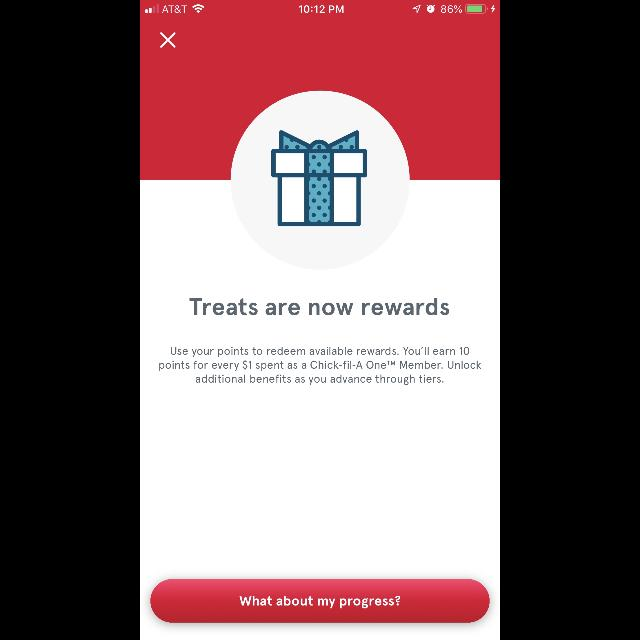icon: (272, 130, 368, 226), (160, 32, 178, 49)
text: (159, 347, 481, 385), (189, 298, 449, 316)
textbutton: (151, 579, 489, 623)
uppertaskbar: (147, 5, 496, 13)
